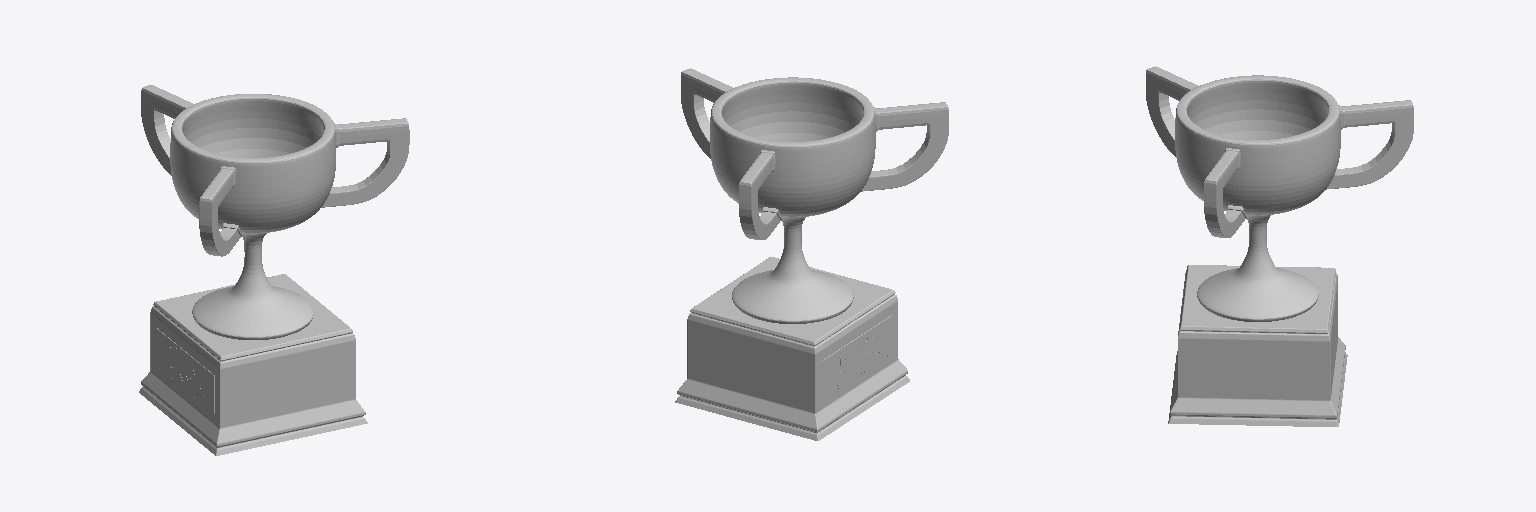
The model's file is trophy.obj.
The picture shows the model from 3 angles: view 1: azimuth 30°, elevation 25°; view 2: azimuth 150°, elevation 25°; view 3: azimuth 270°, elevation 25°; orthographic projection.
Parts seen in each view (by area): view 1: handle_Plane; view 2: handle_Plane; view 3: handle_Plane.
Boxes of the visible parts, box(x1,y1,x2,y2) form: handle_Plane: box(139, 85, 409, 455); handle_Plane: box(675, 68, 948, 440); handle_Plane: box(1146, 66, 1413, 426).
Bounding box in the file's own units: 1.14 × 1.28 × 1.11.